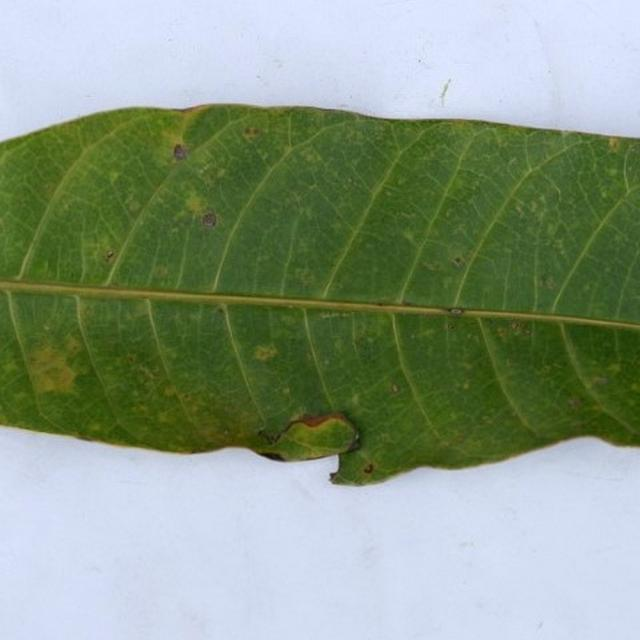Mango: (0, 106, 639, 484)
Powdery_Mildew: (146, 370, 231, 436), (26, 340, 84, 395), (239, 340, 284, 369), (155, 405, 195, 429), (290, 263, 324, 288), (183, 191, 213, 219), (500, 320, 532, 339), (124, 193, 144, 214), (137, 362, 159, 381), (258, 429, 280, 445), (319, 311, 357, 320), (400, 227, 419, 244), (539, 275, 556, 291), (302, 149, 321, 163), (605, 362, 623, 376), (164, 385, 182, 398), (173, 145, 187, 160), (424, 261, 443, 272), (153, 265, 169, 278), (244, 126, 260, 138), (553, 237, 566, 251), (496, 326, 509, 340), (108, 170, 121, 183), (608, 137, 620, 151), (124, 353, 138, 364), (568, 397, 581, 408), (453, 256, 465, 267), (104, 251, 115, 263), (388, 383, 400, 394), (329, 472, 341, 483), (448, 308, 464, 316), (594, 376, 608, 385), (363, 463, 374, 474), (454, 433, 465, 443), (607, 167, 619, 176), (350, 393, 360, 403), (511, 321, 520, 332), (462, 381, 470, 390), (216, 307, 225, 315), (447, 322, 455, 330), (44, 324, 51, 331)
